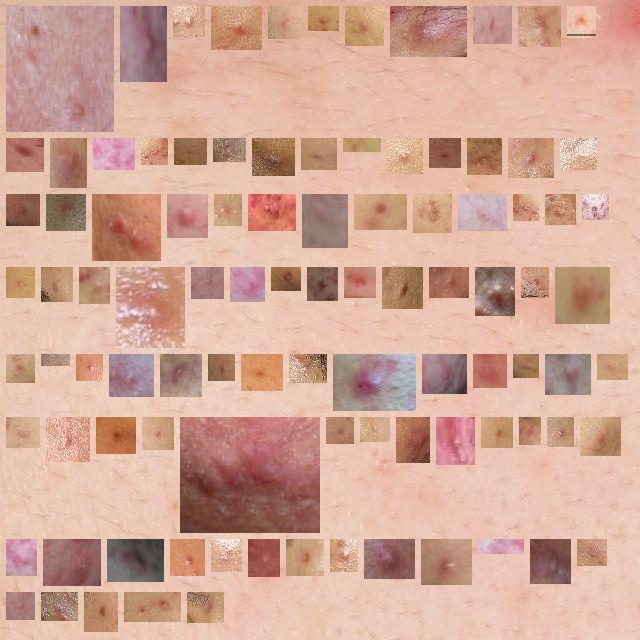papule: (188, 425, 312, 525), (14, 14, 106, 124), (124, 275, 177, 340), (341, 362, 408, 403), (100, 202, 153, 253), (398, 14, 459, 49), (128, 14, 159, 74), (563, 275, 602, 316), (51, 547, 93, 578), (310, 202, 340, 240), (115, 547, 156, 574), (429, 547, 464, 577), (219, 14, 254, 42), (372, 547, 407, 571), (54, 425, 82, 454), (483, 275, 507, 308), (117, 362, 146, 389), (553, 362, 583, 387), (404, 425, 429, 455), (362, 202, 399, 222), (444, 425, 467, 457), (538, 547, 563, 576), (516, 146, 546, 170), (58, 146, 79, 180), (168, 362, 194, 389), (175, 202, 200, 230), (430, 362, 459, 386), (466, 202, 499, 223), (526, 14, 553, 39), (256, 202, 288, 223), (390, 275, 415, 301), (260, 146, 287, 168), (588, 425, 613, 448), (132, 600, 173, 614), (353, 14, 376, 38), (249, 362, 275, 383), (421, 202, 444, 225), (481, 14, 504, 36), (54, 202, 78, 223), (104, 425, 128, 446), (294, 547, 316, 568), (92, 600, 110, 624), (101, 146, 127, 162), (395, 146, 415, 166), (475, 146, 494, 167), (178, 547, 197, 568), (14, 146, 36, 164), (238, 275, 257, 294), (437, 275, 461, 290), (256, 547, 272, 569), (568, 146, 589, 162), (481, 362, 499, 380), (309, 146, 329, 162), (87, 275, 102, 296), (14, 547, 29, 568), (195, 600, 216, 615), (276, 14, 294, 31), (49, 275, 65, 294), (14, 202, 32, 218), (297, 362, 319, 375), (49, 600, 70, 613), (199, 275, 216, 291), (150, 425, 166, 442), (315, 275, 330, 293), (14, 425, 32, 440), (219, 547, 234, 564), (181, 14, 197, 29), (352, 275, 368, 290), (489, 425, 505, 440), (553, 202, 568, 217), (437, 146, 453, 160), (575, 14, 588, 30), (338, 547, 350, 564), (14, 275, 27, 290), (222, 202, 234, 218), (182, 146, 199, 157), (529, 275, 541, 290), (221, 144, 238, 154), (14, 362, 27, 375), (14, 600, 27, 612), (555, 425, 566, 439), (585, 547, 599, 558), (605, 362, 620, 372), (316, 14, 331, 23), (351, 138, 373, 144), (334, 425, 346, 436), (368, 425, 382, 434), (149, 146, 160, 157), (84, 362, 95, 373), (216, 362, 227, 373), (279, 275, 293, 283), (521, 202, 531, 213), (590, 202, 601, 212), (521, 362, 531, 370), (527, 425, 533, 437)
